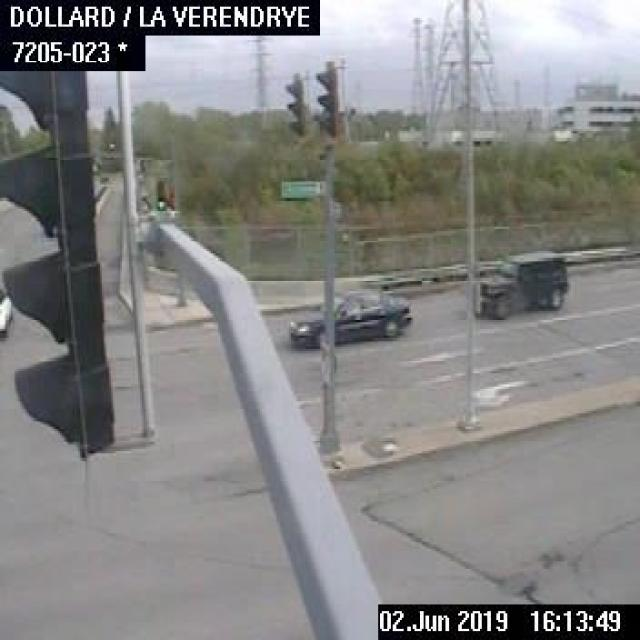vehicle: (284, 284, 411, 350), (473, 249, 567, 315), (0, 286, 13, 336)
